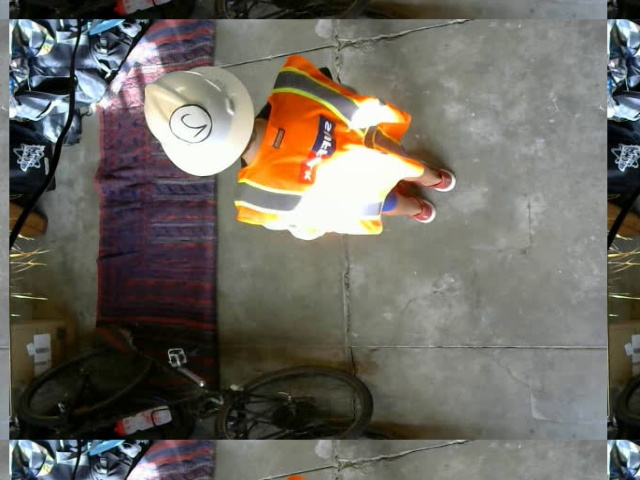two: (167, 104, 211, 144)
